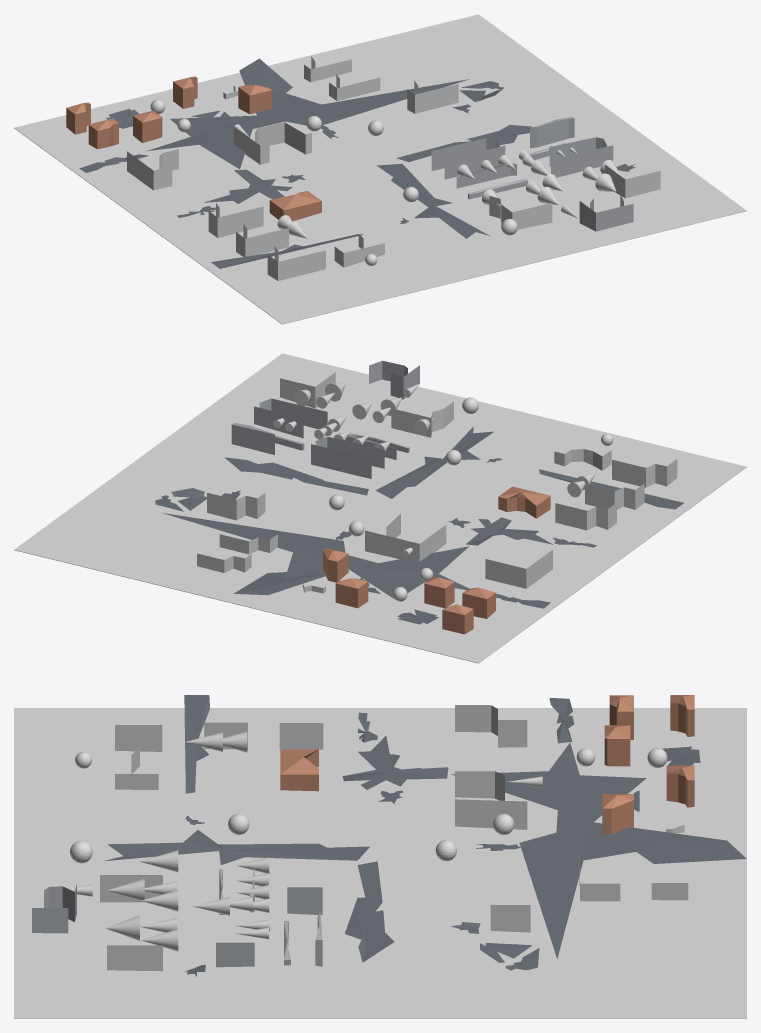
Rendered from scene_93dd4106-1ba2-4afd-b631-4ea1efab1705.glb.
The picture shows the model from 3 angles, top to bottom: view 1: azimuth 30°, elevation 25°; view 2: azimuth 150°, elevation 25°; view 3: azimuth 270°, elevation 25°; orthographic projection. The views are drawn at different scales.
Visible parts, largest first — view 1: Ground_Base, Road_Corridors, B013, B011, B018, B010, B021, B012, B025, B015, B022, B019 (+12 smaller); view 2: Ground_Base, Road_Corridors, B013, B011, B018, B010, B021, B012, B009, B025, B019, B015 (+11 smaller); view 3: Ground_Base, Road_Corridors, B011, B010, B025, B015, B023, B021, B012, B006, B002, B007 (+10 smaller).
Part boxes in pixels (<box>): Ground_Base: <box>14,14,746,324</box>; Road_Corridors: <box>79,58,635,268</box>; B013: <box>431,138,505,179</box>; B011: <box>233,122,311,164</box>; B018: <box>549,137,613,177</box>; B010: <box>127,149,178,190</box>; B021: <box>267,246,325,280</box>; B012: <box>208,203,263,237</box>; B025: <box>579,194,633,231</box>; B015: <box>269,191,321,221</box>; B022: <box>489,195,552,229</box>; B019: <box>236,224,288,256</box>; Ground_Base: <box>14,353,746,663</box>; Road_Corridors: <box>155,426,683,624</box>; B013: <box>311,436,384,478</box>; B011: <box>365,513,446,561</box>; B018: <box>254,398,327,438</box>; B010: <box>485,550,552,588</box>; B021: <box>612,459,677,487</box>; B012: <box>555,503,616,530</box>; B009: <box>207,492,265,520</box>; B025: <box>369,360,419,399</box>; B019: <box>585,483,644,509</box>; B015: <box>498,486,550,518</box>; Ground_Base: <box>14,708,746,1018</box>; Road_Corridors: <box>103,695,746,976</box>; B011: <box>455,771,527,829</box>; B010: <box>455,705,527,747</box>; B025: <box>32,884,76,933</box>; B015: <box>280,749,318,791</box>; B023: <box>107,945,162,971</box>; B021: <box>115,725,162,751</box>; B012: <box>279,723,323,749</box>; B006: <box>602,794,633,834</box>; B002: <box>666,765,694,807</box>; B007: <box>604,725,630,766</box>.
Bounding box in the file's own units: 410 × 26.22 × 410.
